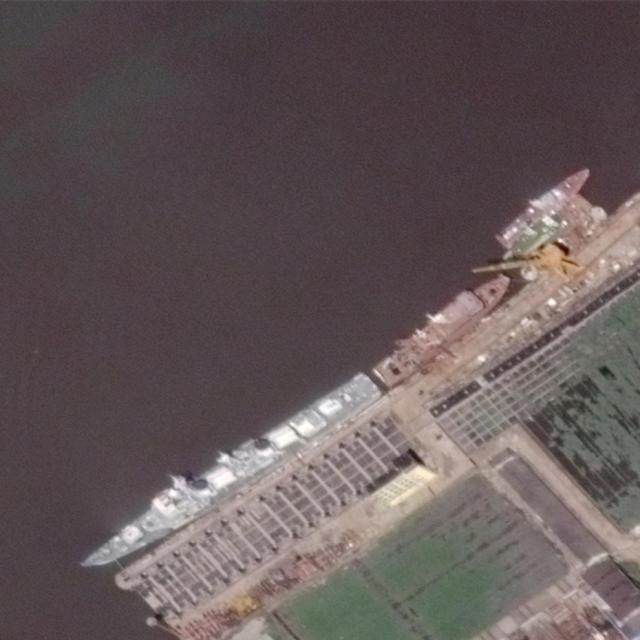Destroyer: (77, 367, 383, 583)
Other Warship: (367, 264, 520, 390), (489, 162, 597, 250)
